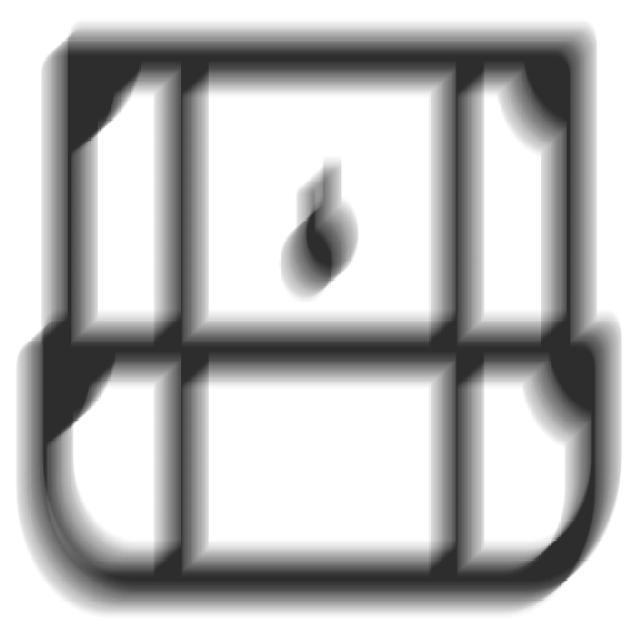treasure_box: (10, 16, 634, 623)
